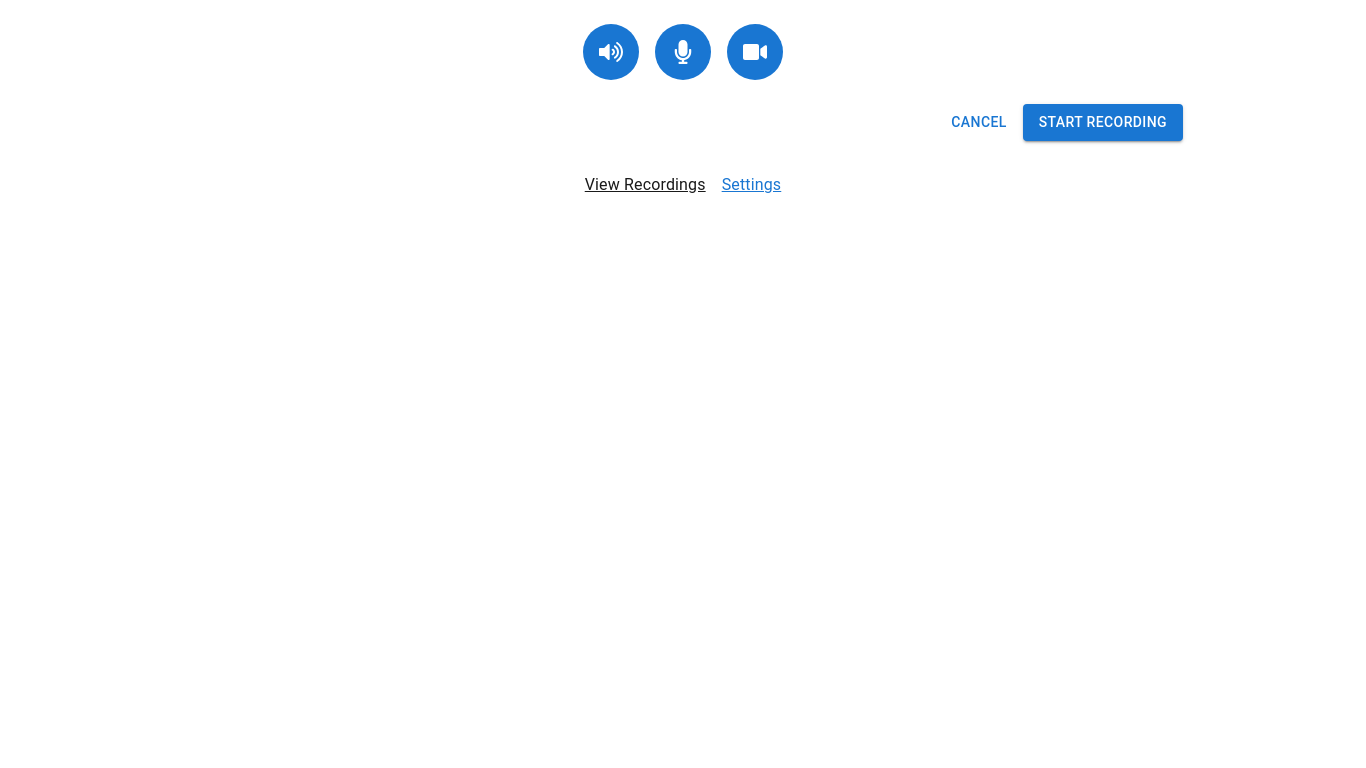
Test: Home.Desktop - Recording Naming Flow › naming modal appears after stop › shows naming modal when stop is clicked
Click the button "Start Recording": (1103, 122) 1023,104 -> 1183,140
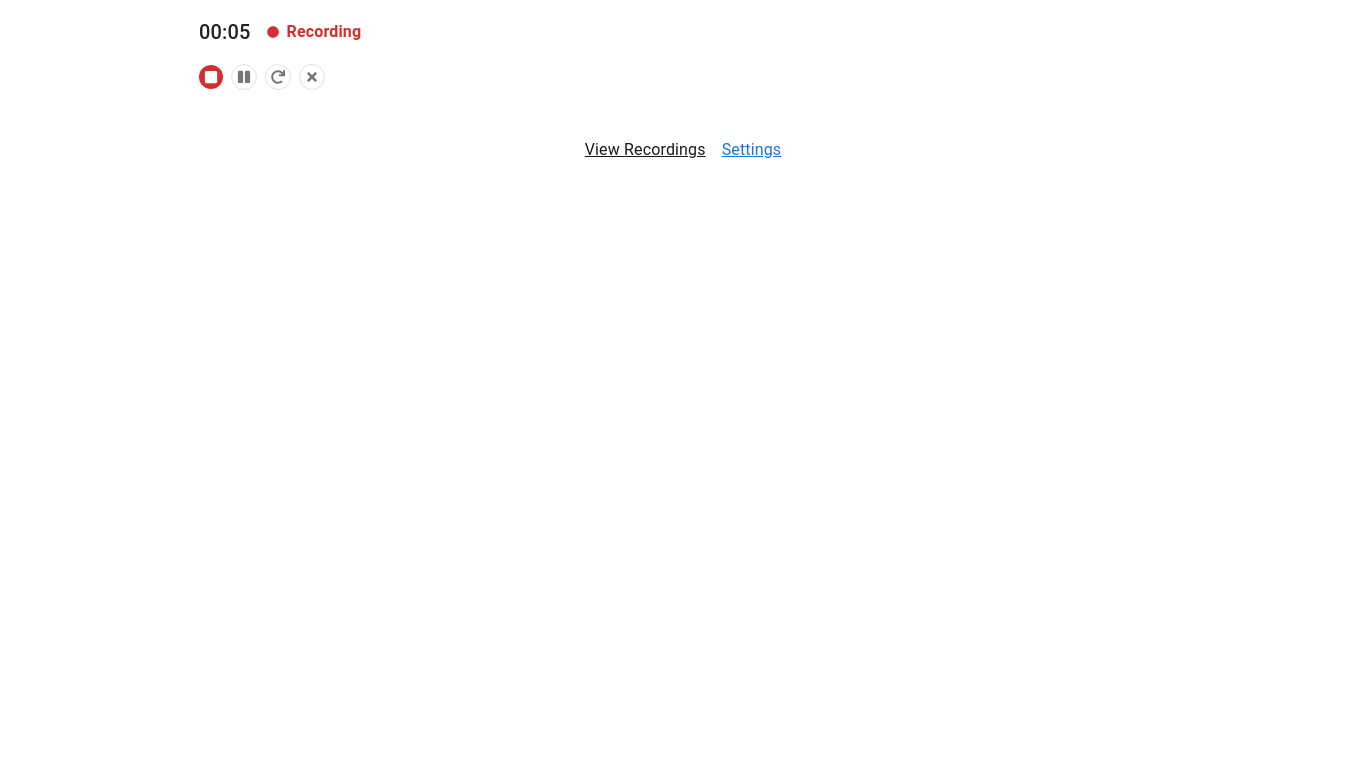
Result: the element with test id "recording-controls-modal" is shown at 199,20 -> 361,90
Click the button named "stop": (211, 77) 199,65 -> 223,89
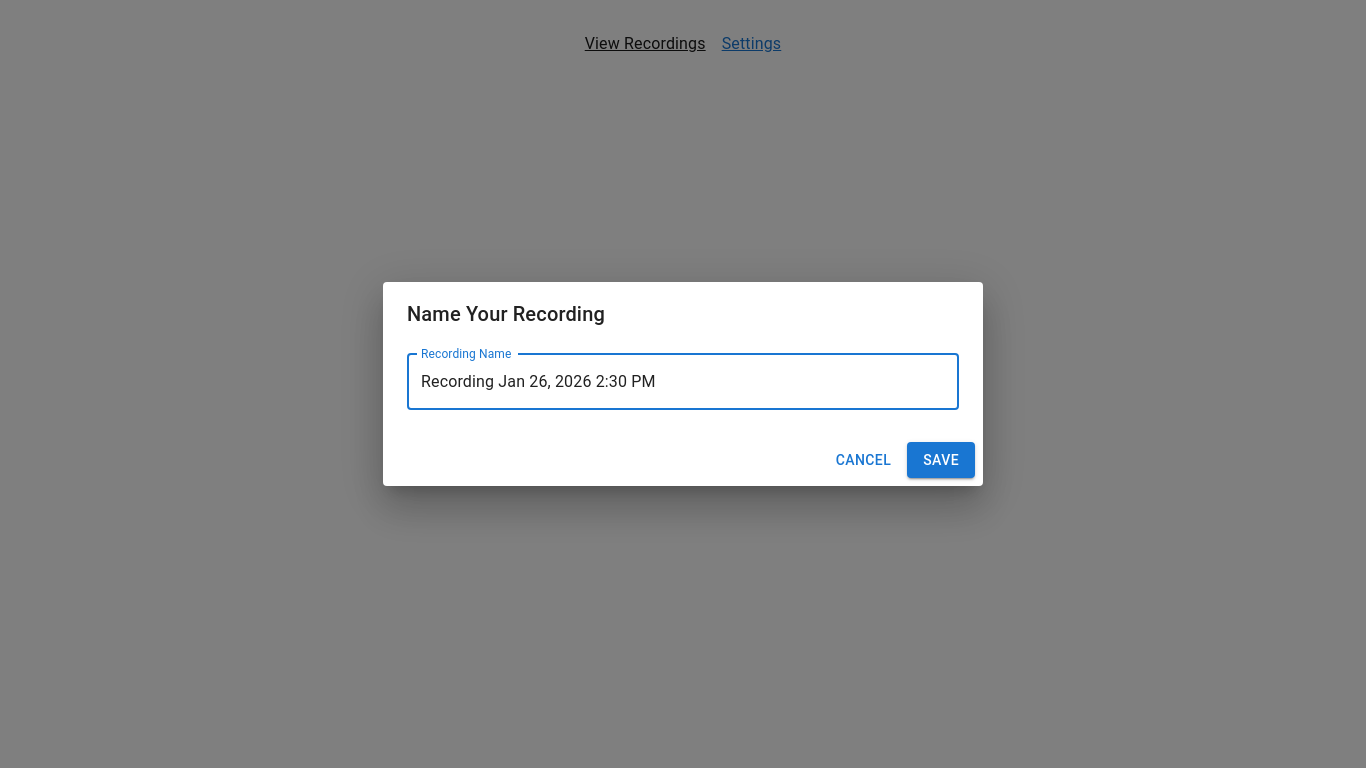
Result: the element with test id "recording-name-modal" is shown
